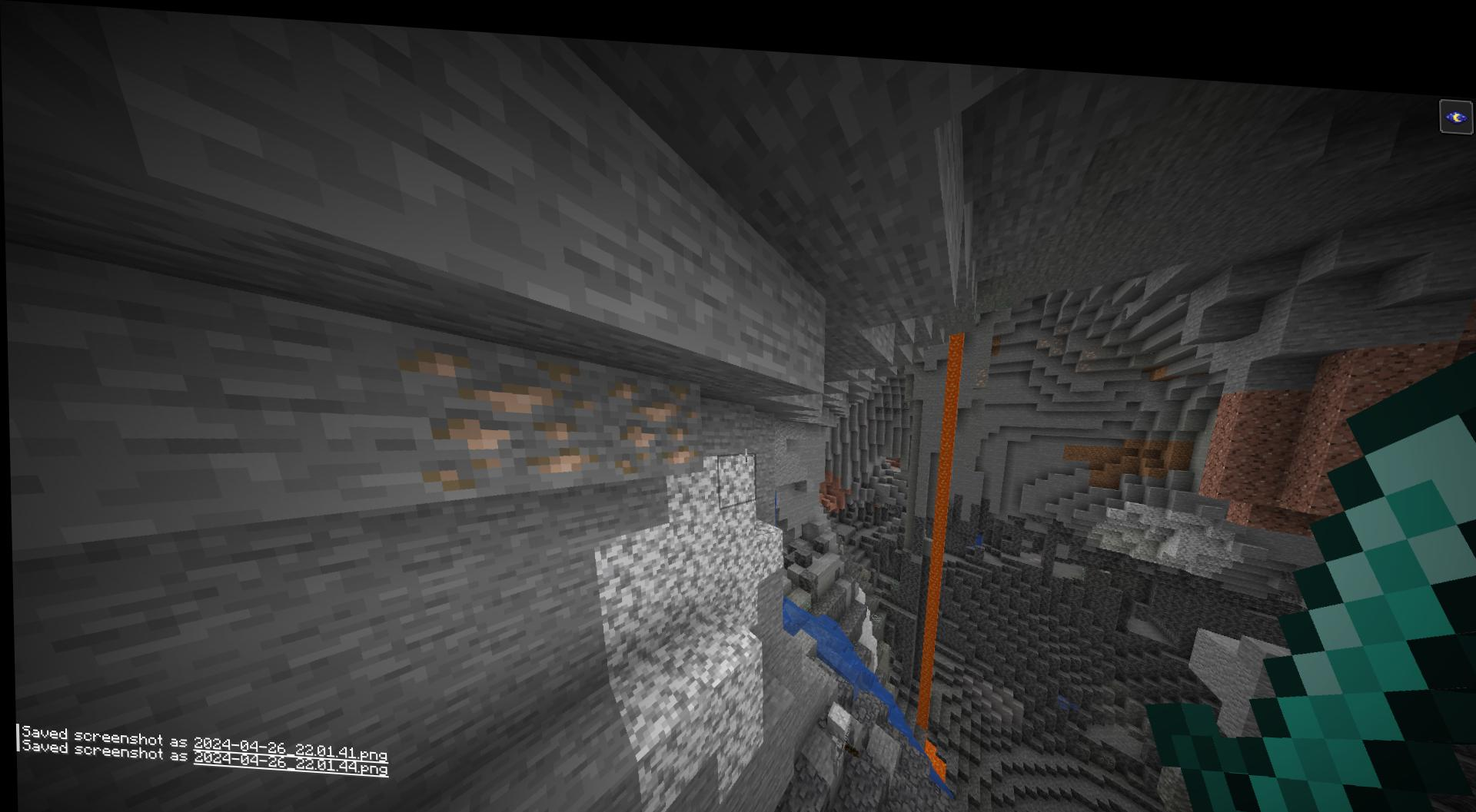iron ore: (401, 328, 588, 496), (588, 345, 698, 459)
